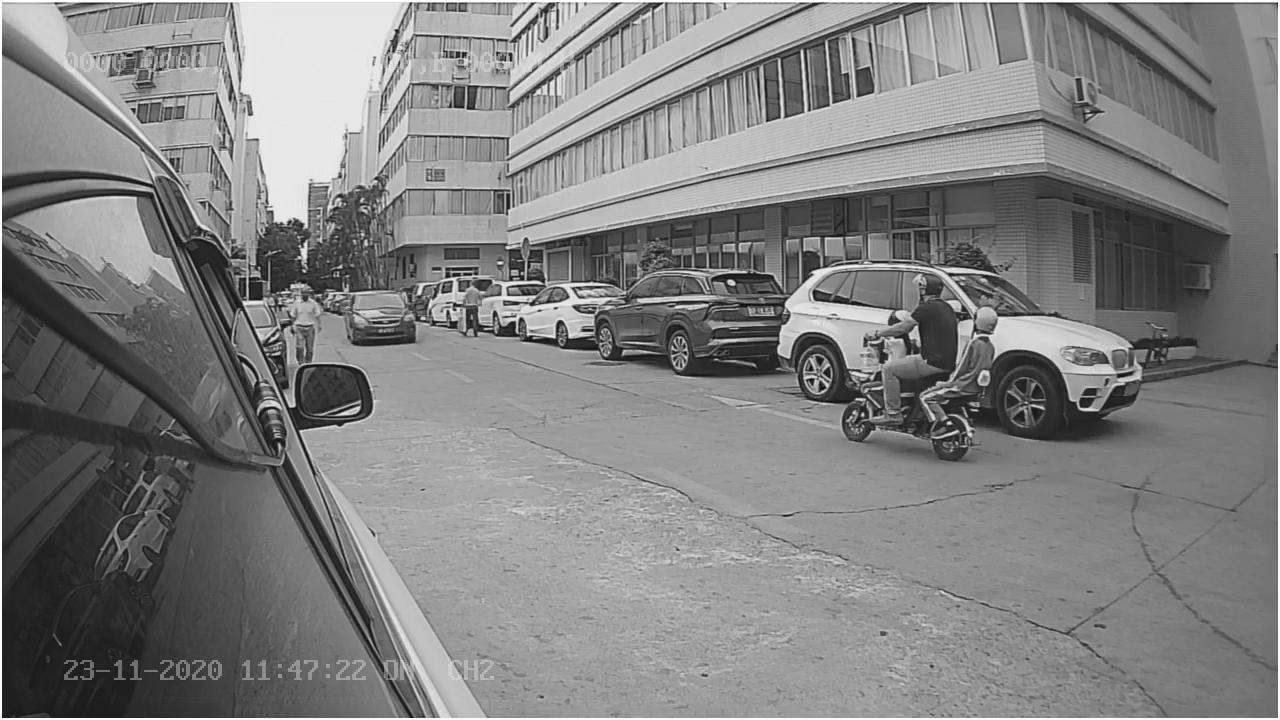person: (867, 270, 959, 359)
